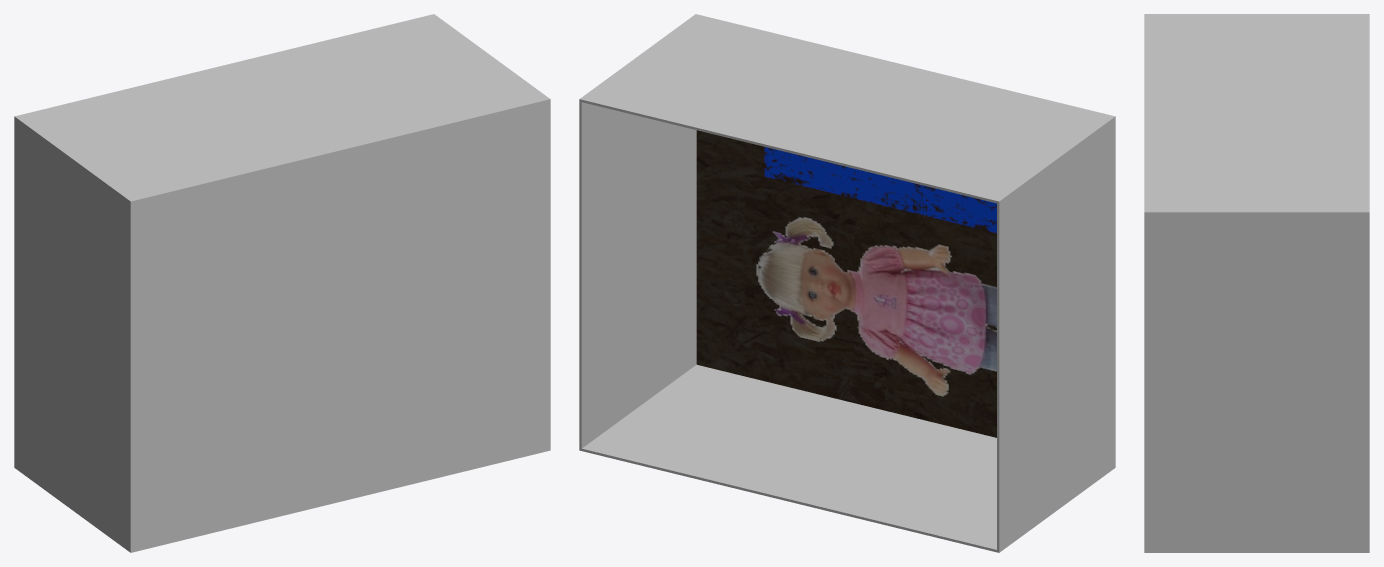
Rendered from victim_with_box_s.dae.
The picture shows the model from 3 angles, left to right: view 1: azimuth 30°, elevation 25°; view 2: azimuth 150°, elevation 25°; view 3: azimuth 270°, elevation 25°; orthographic projection. The views are drawn at different scales.
Visible parts, largest first — view 1: Cube; view 2: Cube; view 3: Cube.
Part boxes in pixels (x1,y1,x2,y2): Cube: (14,14,550,552); Cube: (579,14,1115,552); Cube: (1144,14,1369,552).
Bounding box in the file's own units: 0.5 × 0.24 × 0.4.
